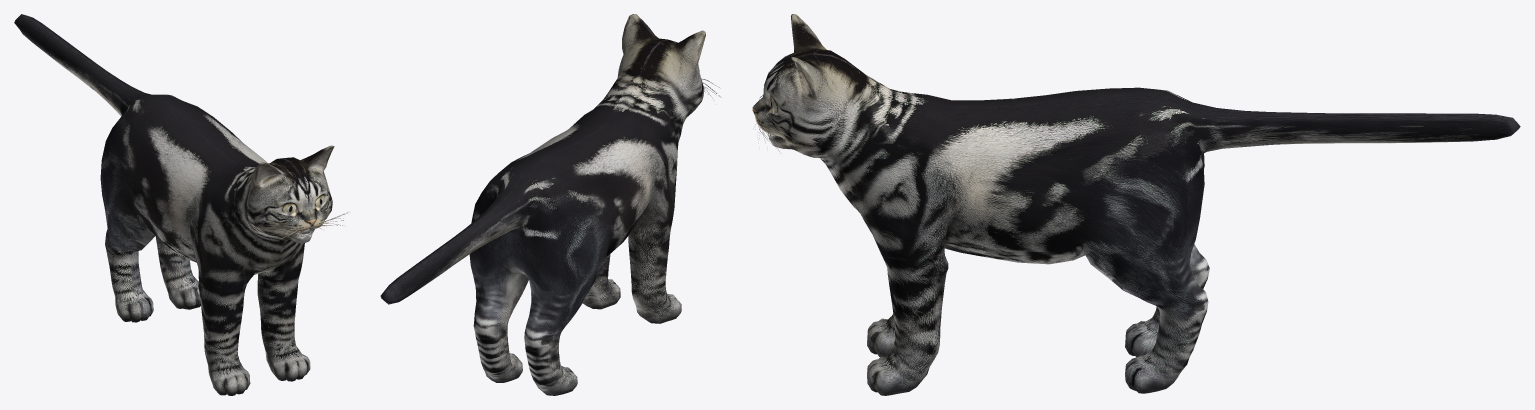
3 renders of one model, left to right at view 1: azimuth 30°, elevation 25°; view 2: azimuth 150°, elevation 25°; view 3: azimuth 270°, elevation 25°, orthographic. The views are drawn at different scales.
Parts seen in each view (by area): view 1: Mesh_0; view 2: Mesh_0; view 3: Mesh_0.
Part boxes in pixels (bbox=[...]): Mesh_0: bbox=[14, 14, 347, 395]; Mesh_0: bbox=[380, 14, 721, 395]; Mesh_0: bbox=[752, 14, 1520, 395].
Size of the model in its own units: 44.95 by 95.79 by 200.
Materials: 1 (1 with a texture image).
